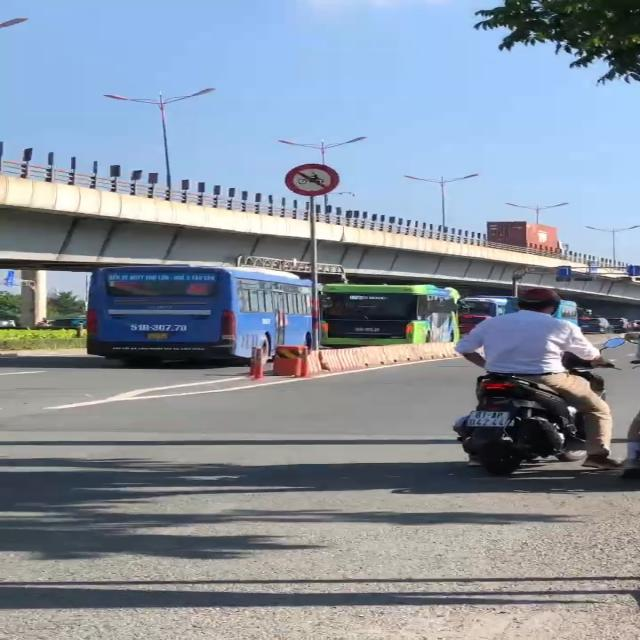Bien bao cam xe may: (275, 161, 358, 195)
